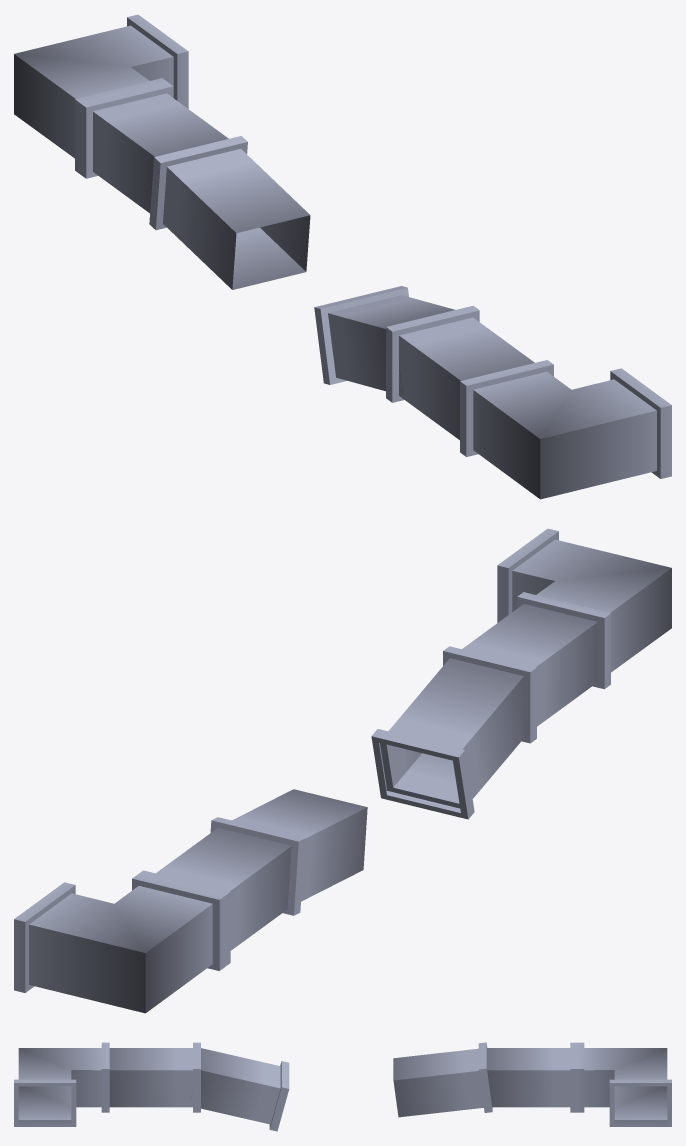
The model's file is ventilationBreak.fbx.
The picture shows the model from 3 angles, top to bottom: view 1: azimuth 30°, elevation 25°; view 2: azimuth 150°, elevation 25°; view 3: azimuth 270°, elevation 25°; orthographic projection. The views are drawn at different scales.
Visible parts, largest first — view 1: Куб.212; view 2: Куб.212; view 3: Куб.212.
Part boxes in pixels (left/top/right/bottom): Куб.212: left=14, top=14, right=671, bottom=499; Куб.212: left=14, top=528, right=671, bottom=1013; Куб.212: left=14, top=1042, right=671, bottom=1131.
Bounding box in the file's own units: 99.59 × 72.31 × 685.
